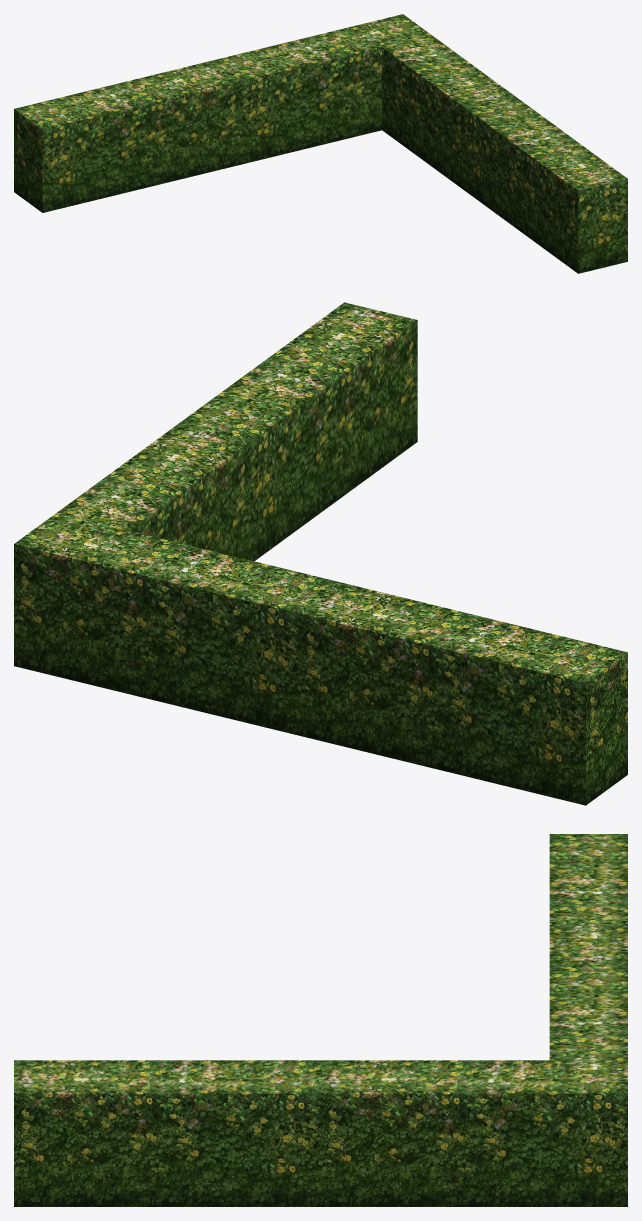
File: Hedge 01-01.dae
3 renders of one model, top to bottom at view 1: azimuth 30°, elevation 25°; view 2: azimuth 150°, elevation 25°; view 3: azimuth 270°, elevation 25°, orthographic. The views are drawn at different scales.
Parts seen in each view (by area): view 1: skp11B6; view 2: skp11B6; view 3: skp11B6.
Part boxes in pixels (x1,y1,x2,y2): skp11B6: [14, 14, 627, 273]; skp11B6: [14, 302, 627, 805]; skp11B6: [14, 834, 627, 1206].
Bounding box in the file's own units: 481 × 481 × 98.37.
1 material, 1 textured.
